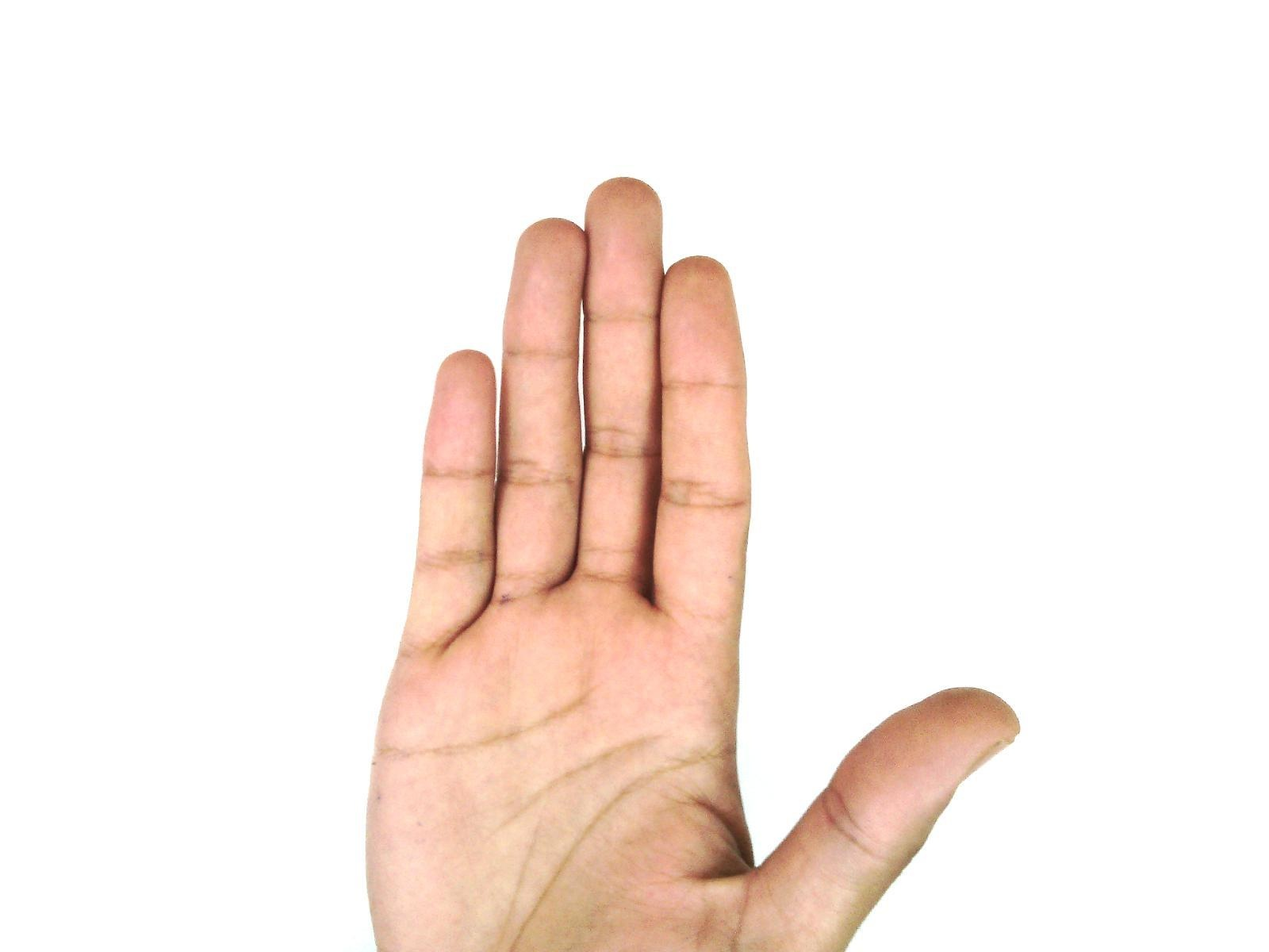open_palm: (361, 175, 1022, 951)
